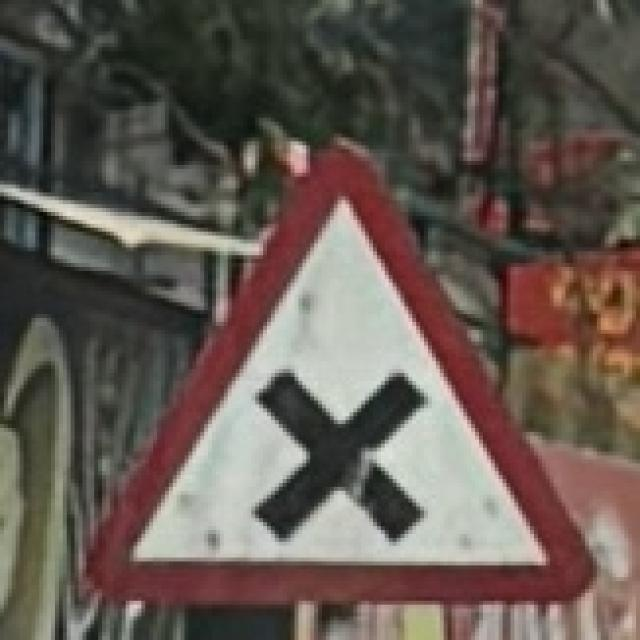CROSS_ROAD: (61, 119, 603, 620)
